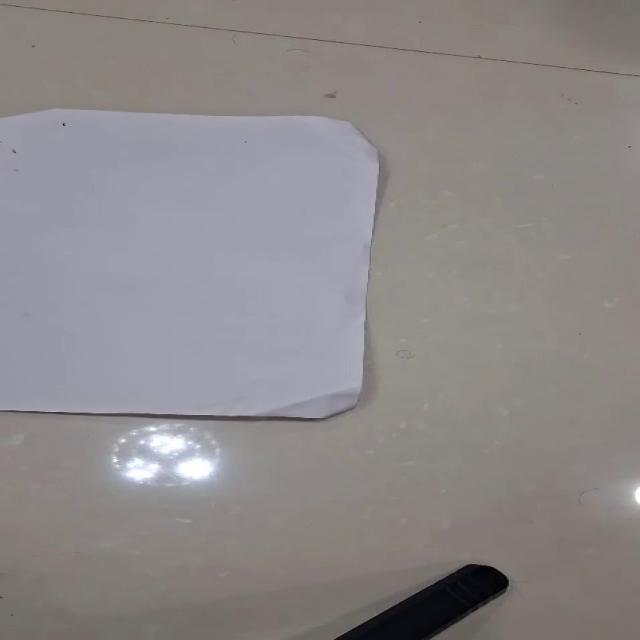paper: (0, 106, 380, 419)
